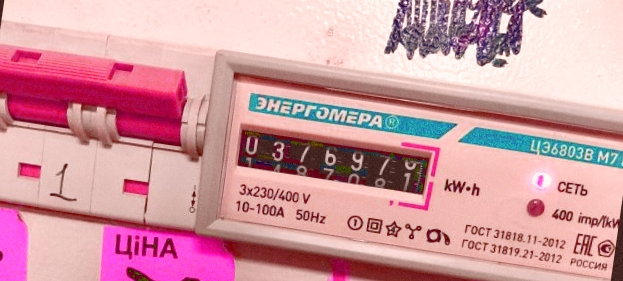0: (242, 131, 260, 155)
1: (400, 169, 412, 192)
3: (270, 138, 286, 161)
6: (321, 142, 340, 166)
7: (296, 139, 313, 164), (375, 150, 392, 175)
9: (348, 147, 365, 171)
screen: (222, 112, 444, 214)
